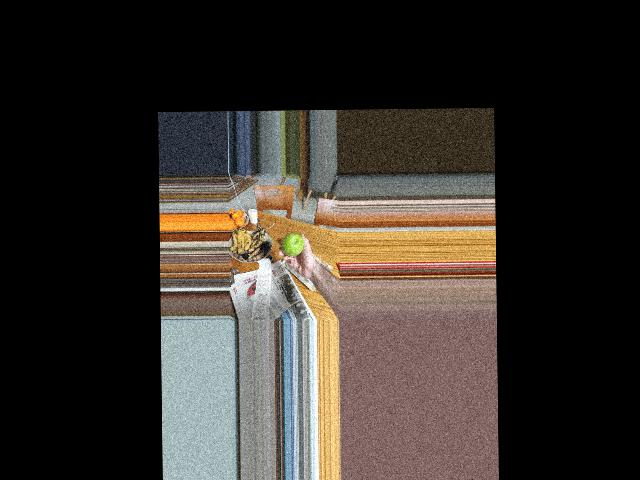apple: (280, 232, 304, 256)
